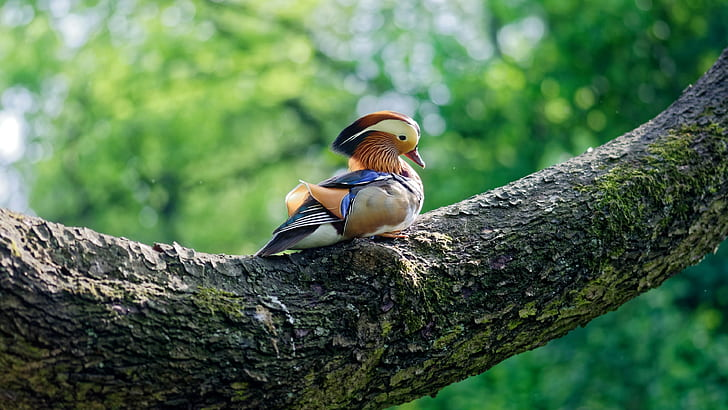bird: (249, 98, 445, 253)
